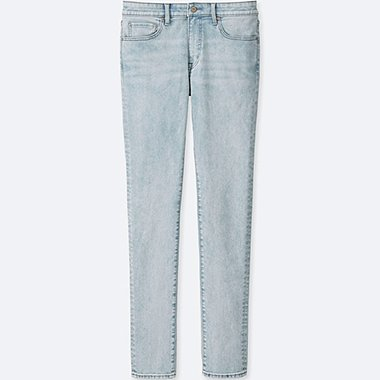Jeans: (112, 1, 265, 378)
